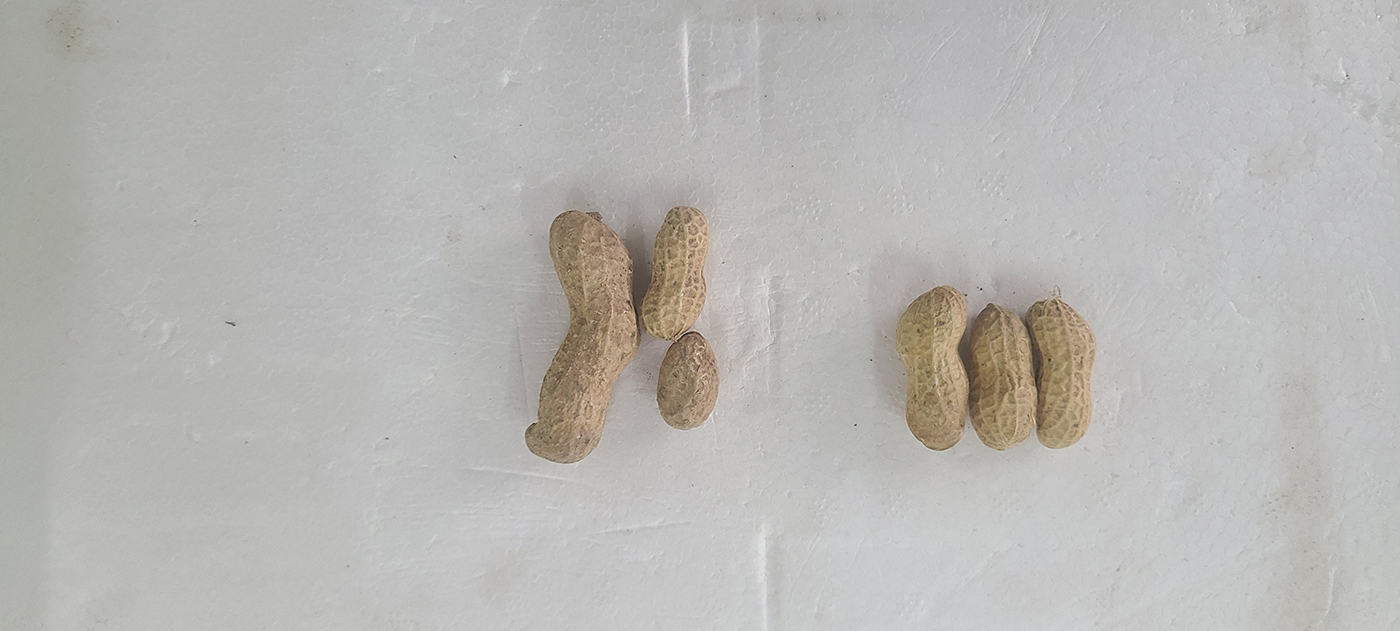h: (520, 209, 641, 464), (892, 285, 971, 452), (1023, 295, 1096, 449), (969, 302, 1040, 449), (642, 204, 711, 337)
l: (657, 330, 721, 432)
